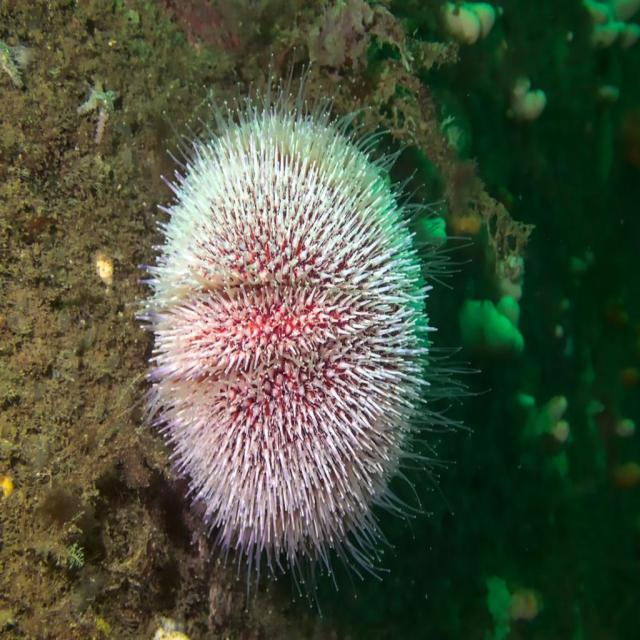Deniz Kestanesi: (118, 47, 490, 618)
